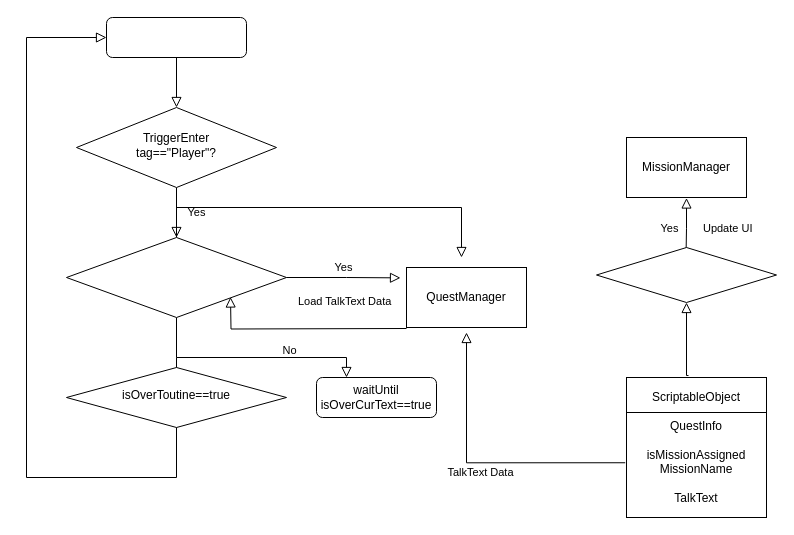
Some shapes in this 794 by 535 pixel diagram are drawn without their labels. The centre of each missing label's shape, as x and y in pixels:
DisplayTextSlowly isCurText==true: point (176, 277)
isMissionAssigned==true: point (686, 274)
QuestTrigger: point (176, 37)
